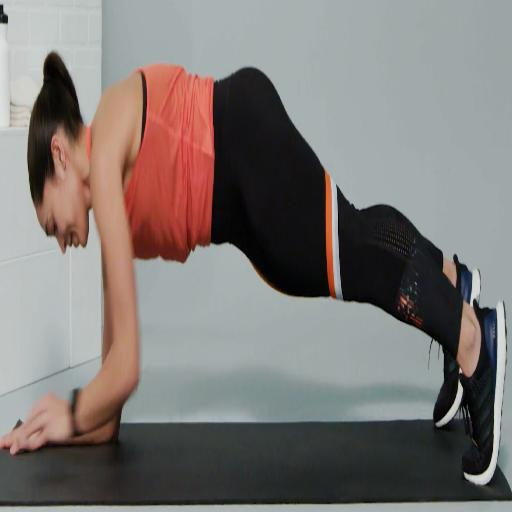Normal_BrenchPress: (4, 52, 502, 476)
